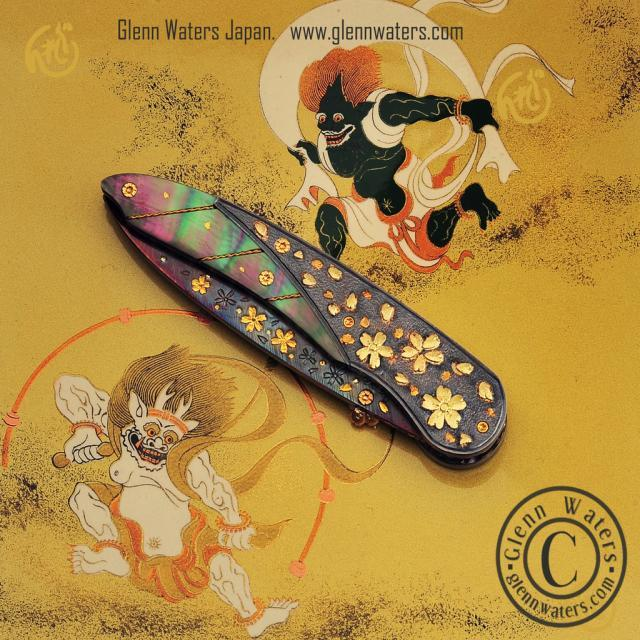Knife: (102, 174, 506, 466)
